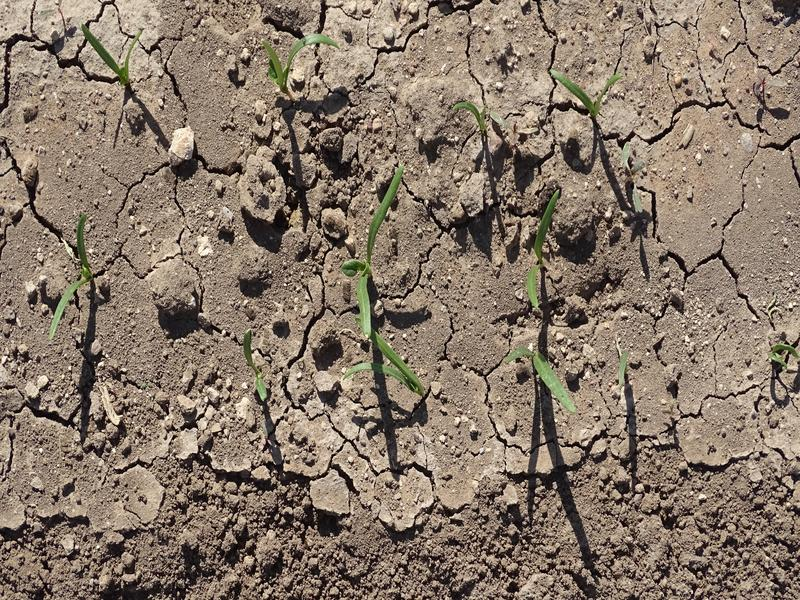Espinaca: (341, 163, 405, 335), (47, 208, 95, 340), (261, 28, 349, 86), (350, 334, 426, 393), (79, 21, 149, 83), (526, 188, 562, 308), (546, 63, 618, 118), (516, 337, 572, 406), (451, 98, 507, 137)
